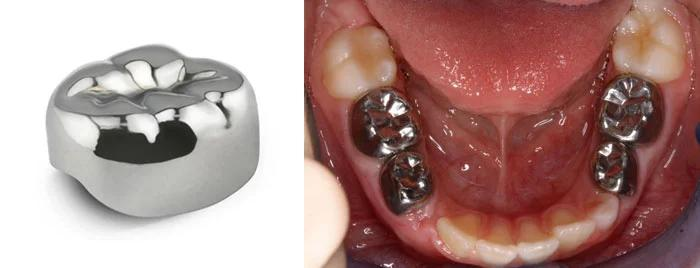crown: (42, 38, 268, 215), (592, 65, 667, 149), (343, 84, 426, 157), (375, 149, 437, 211), (588, 132, 639, 195)
